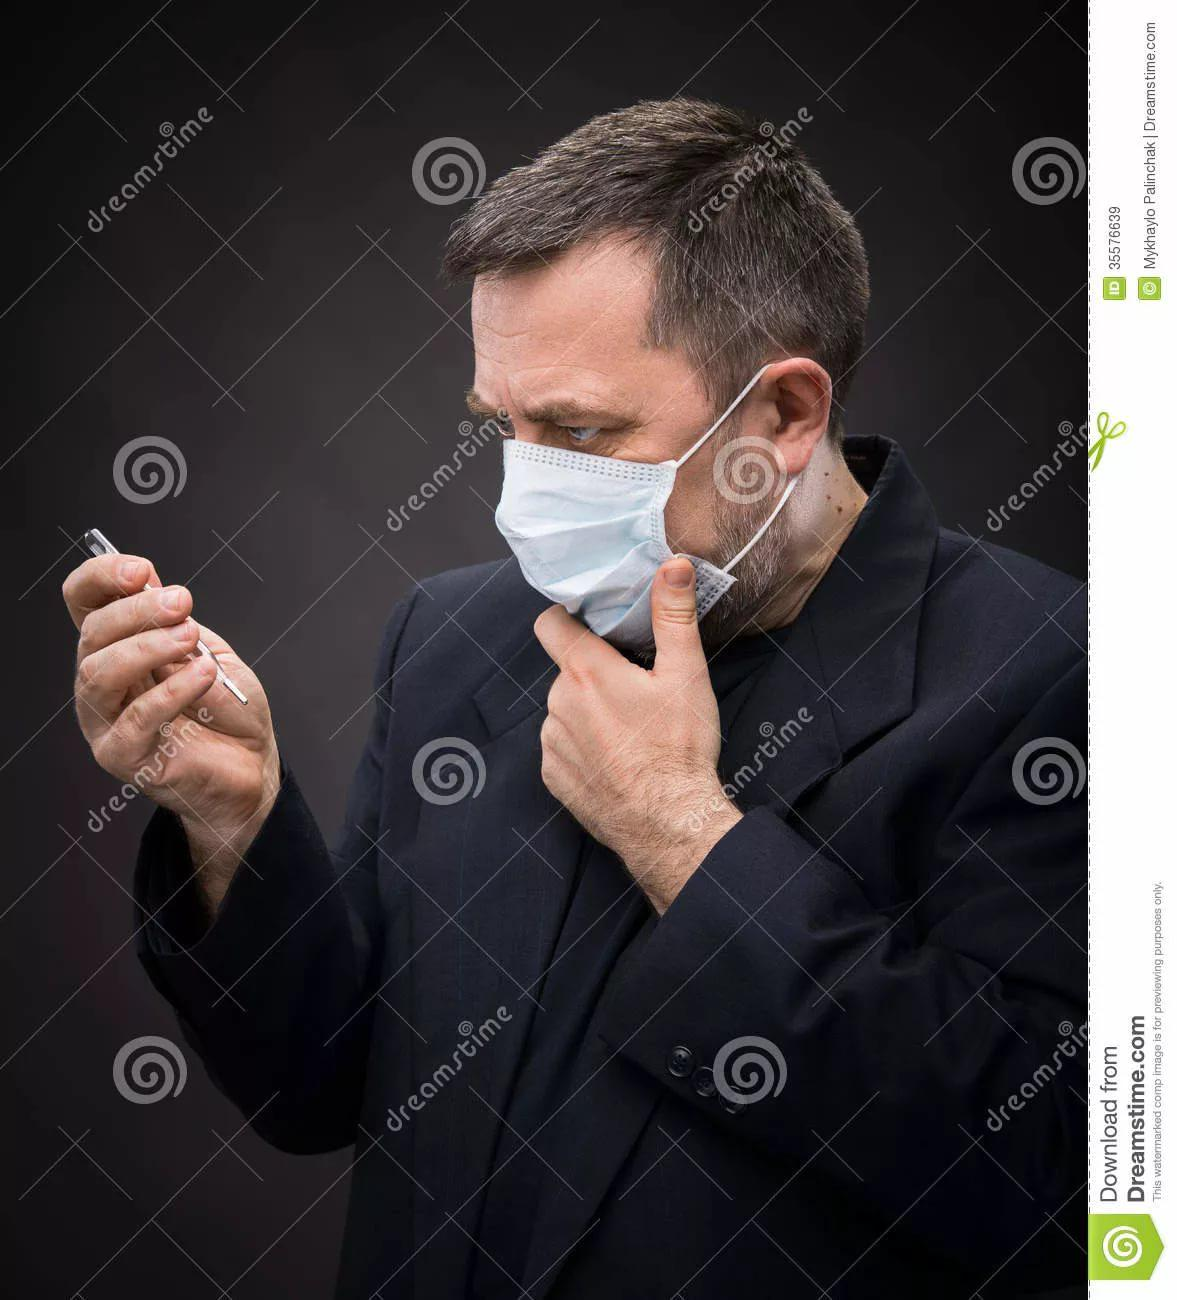mask: (469, 176, 753, 645)
